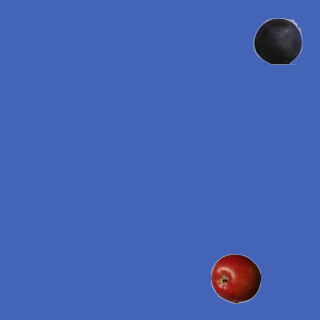Apple Braeburn: (210, 253, 260, 303)
Grape Blue: (252, 15, 302, 65)
